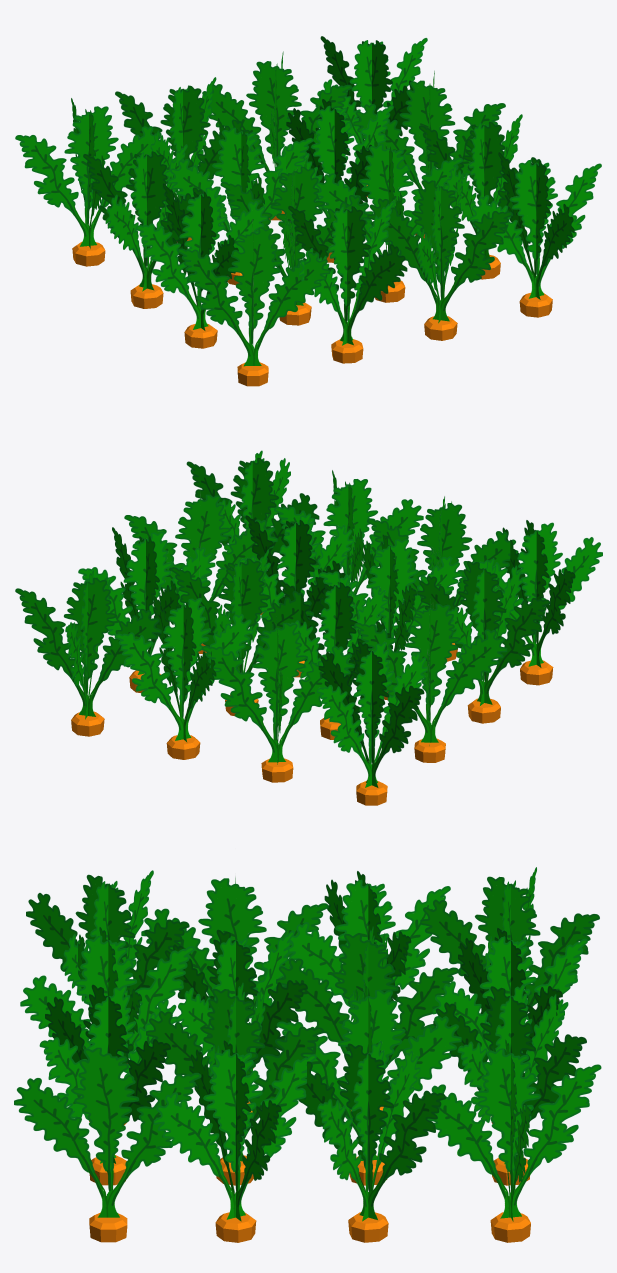
Rendered from carrot-stage3.glb.
3 views of the same model, one above another, from view 1: azimuth 30°, elevation 25°; view 2: azimuth 150°, elevation 25°; view 3: azimuth 270°, elevation 25° (orthographic). The views are drawn at different scales.
Parts seen in each view (by area): view 1: Carrot_F3.001; view 2: Carrot_F3.001; view 3: Carrot_F3.001.
Boxes of the visible parts, <box> form: Carrot_F3.001: <box>15,36,601,386</box>; Carrot_F3.001: <box>15,450,602,805</box>; Carrot_F3.001: <box>14,867,601,1242</box>.
Bounding box in the file's own units: 2.4 × 0.8395 × 2.39.
1 material, 1 textured.
